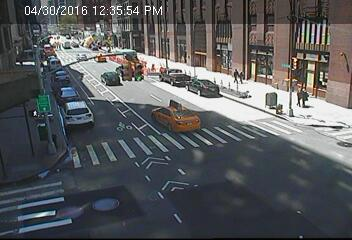neg: (65, 171, 105, 224), (187, 148, 221, 193), (19, 100, 51, 144), (30, 37, 61, 78), (237, 136, 266, 173), (194, 80, 221, 115), (108, 39, 133, 73), (74, 79, 99, 112), (297, 23, 321, 56), (295, 151, 319, 183), (146, 94, 167, 122), (176, 36, 192, 57), (230, 29, 243, 46)
pos: (300, 84, 315, 105), (228, 64, 242, 83), (294, 87, 306, 103), (238, 68, 250, 83)
